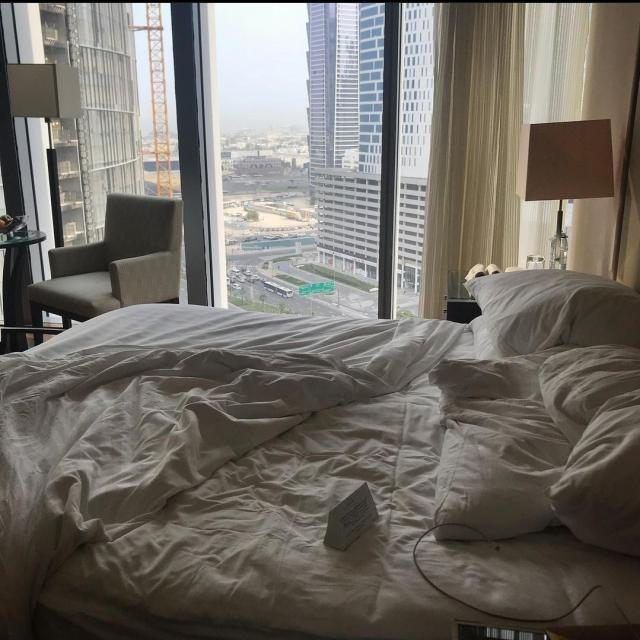bed: (0, 252, 623, 604)
